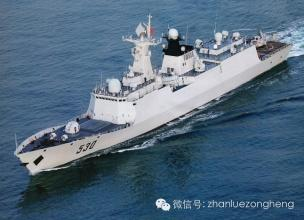warship: (13, 16, 292, 173)
